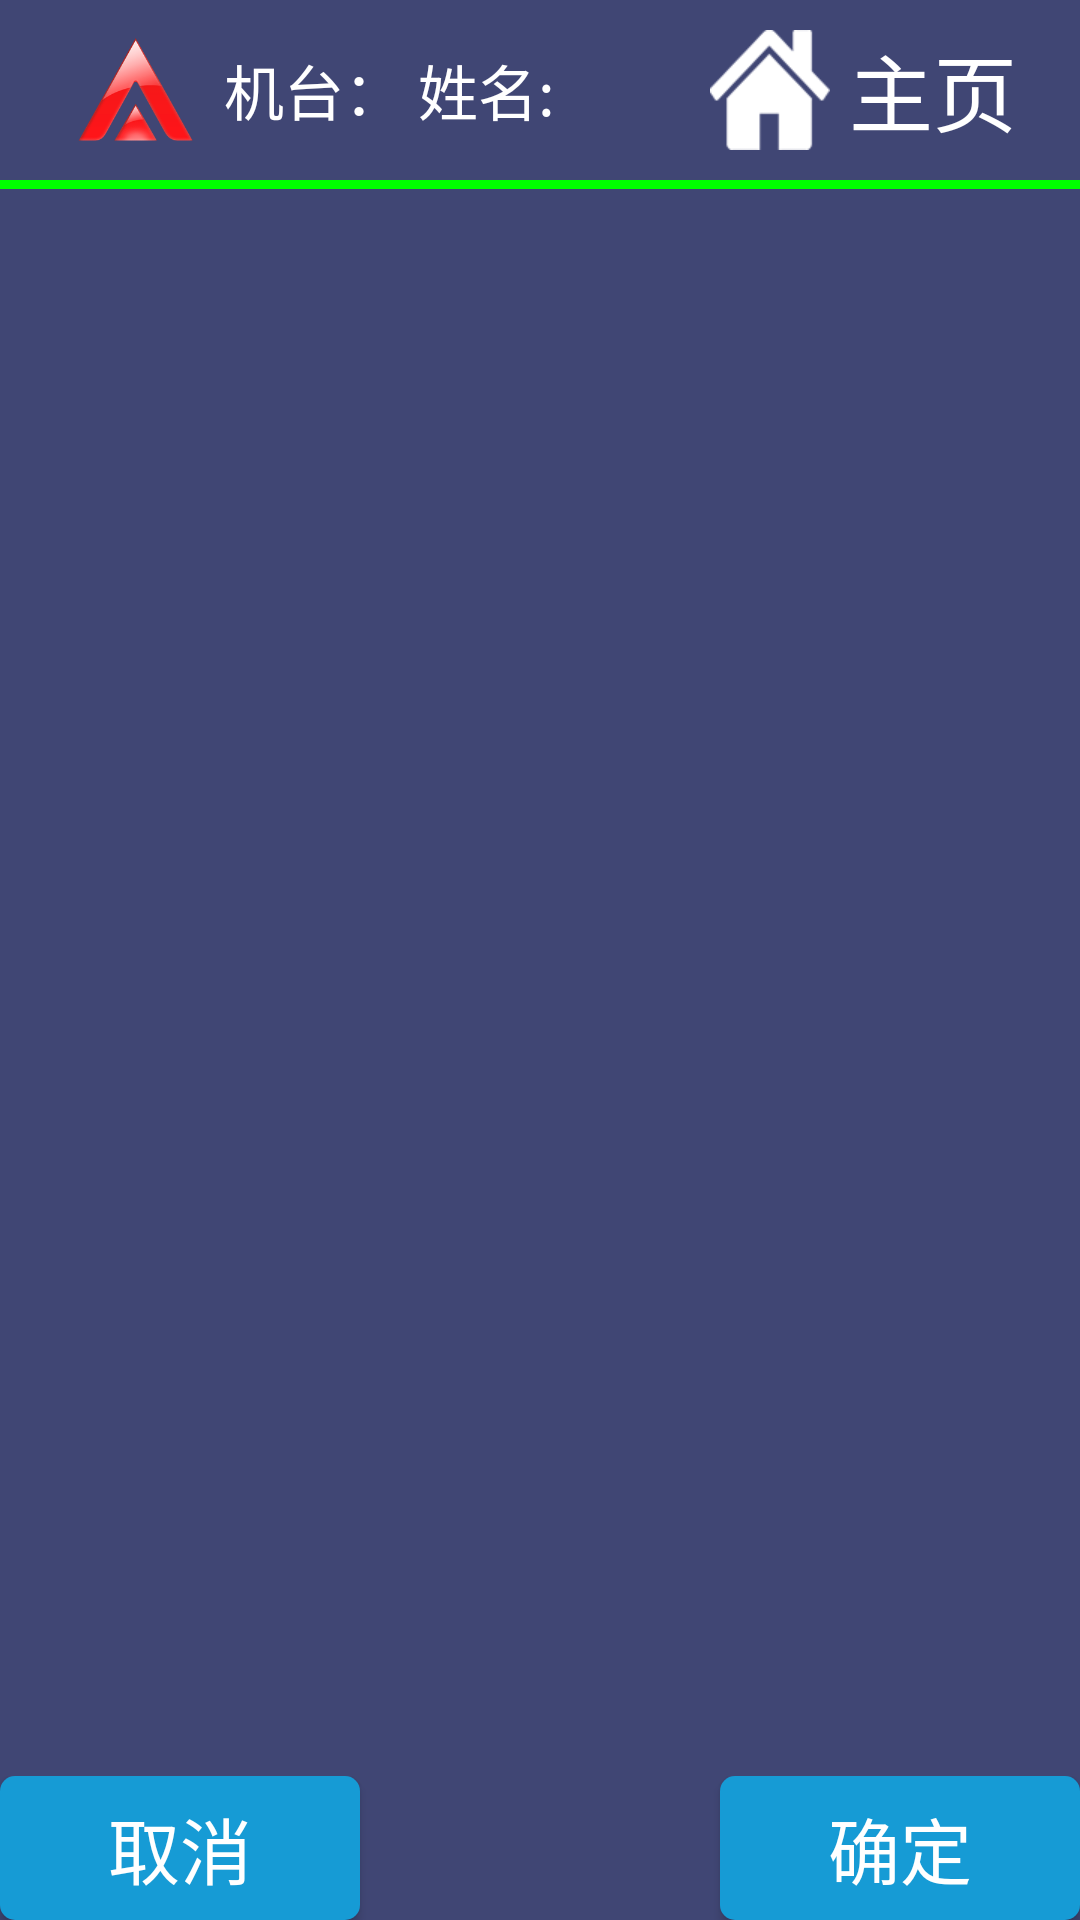

Icons on this 1080×1920 Android screen, each with its box as (x1, y1, x2, y2):
main: (710, 30, 830, 150)
